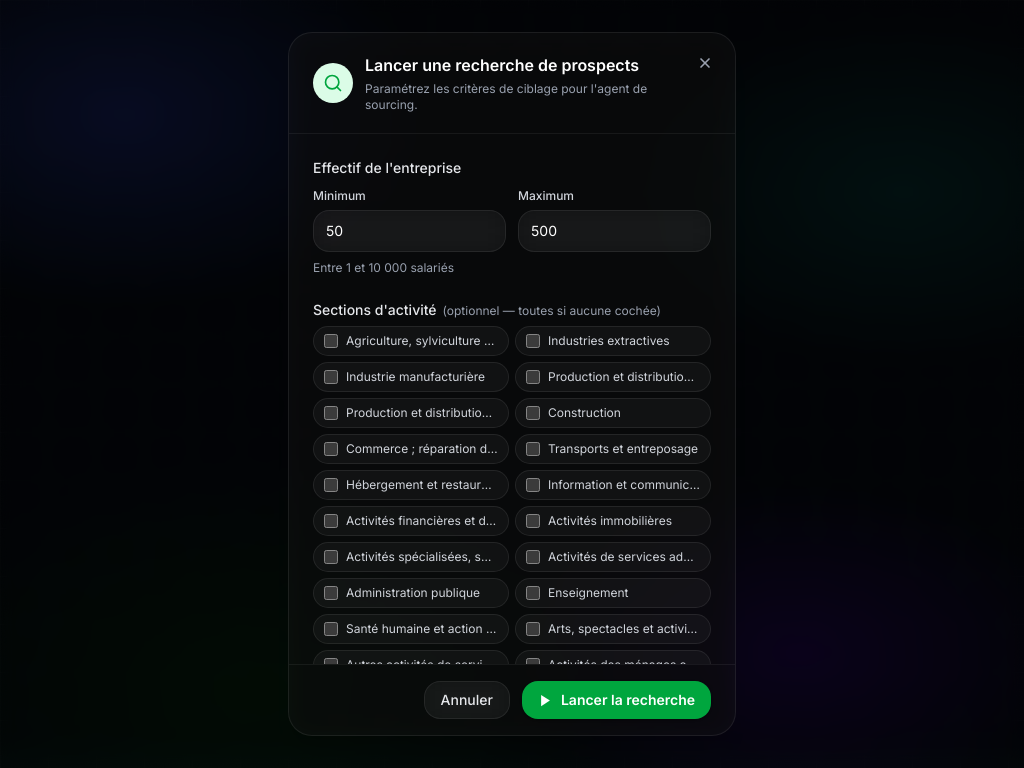
Scenario: SourcingModal — submit (targetSectors: [] systématique) › bloque le submit si effectifMin > effectifMax (régression effectif)
Replace the text in the number field labelled "Minimum" with "500" at (410, 231), box [313, 210, 506, 252]
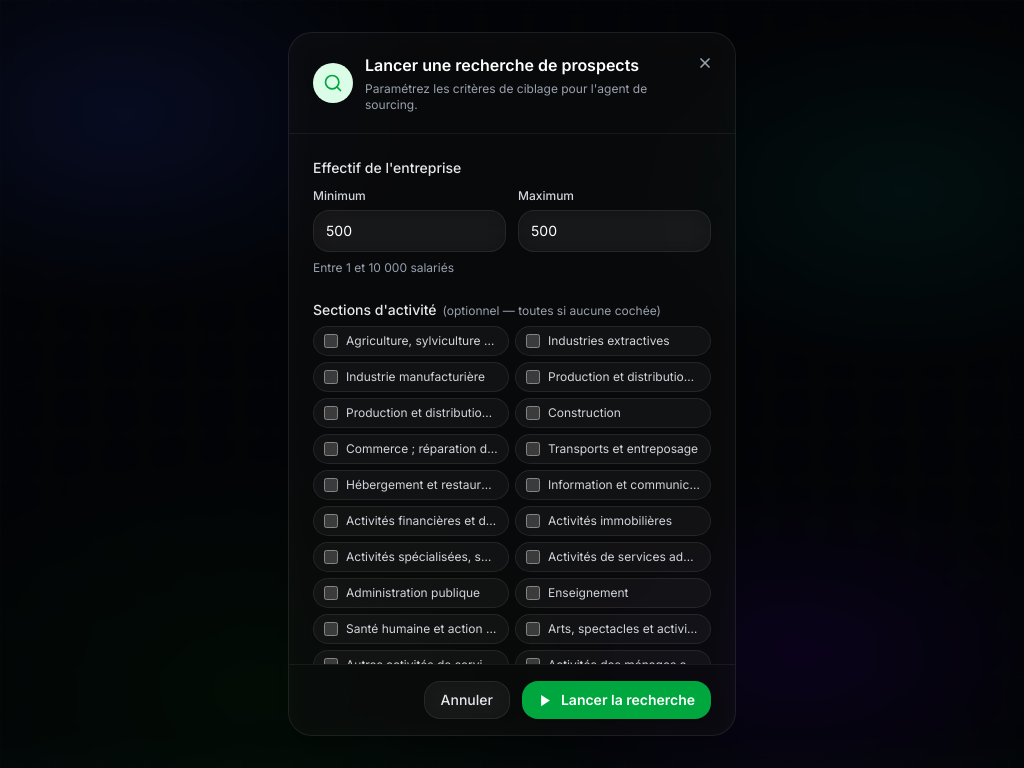
Replace the text in the number field labelled "Maximum" with "100" at (614, 231), box [518, 210, 711, 252]
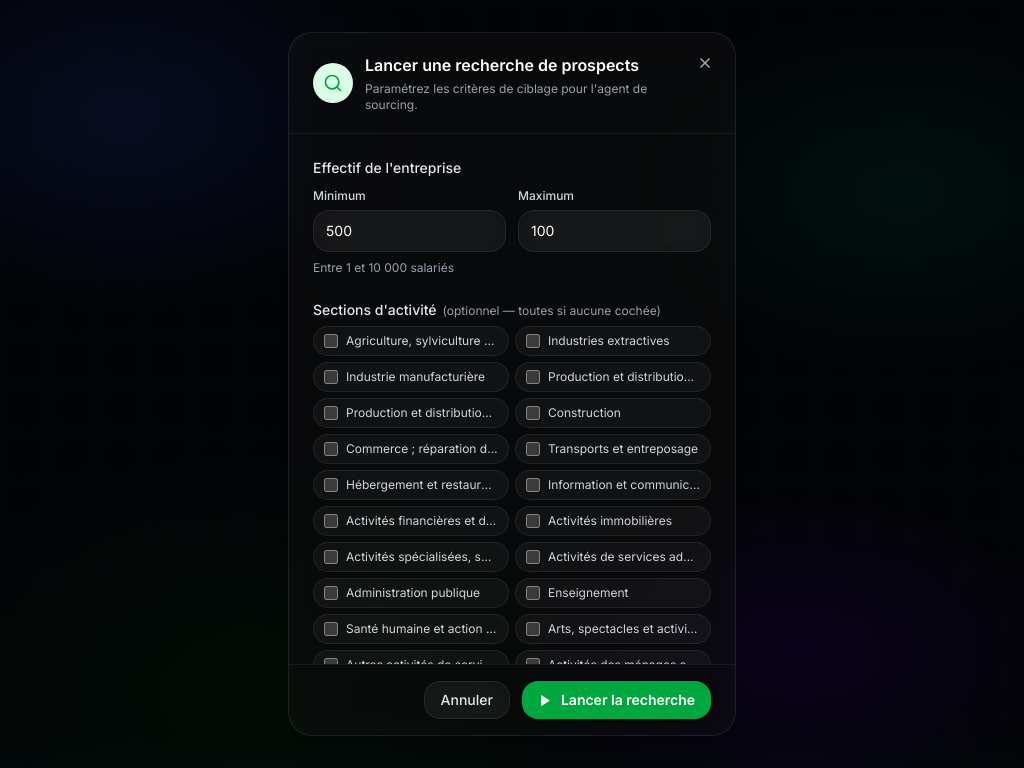
Click the button "Lancer la recherche" at (616, 700), box [522, 681, 711, 719]
(page scrolled)
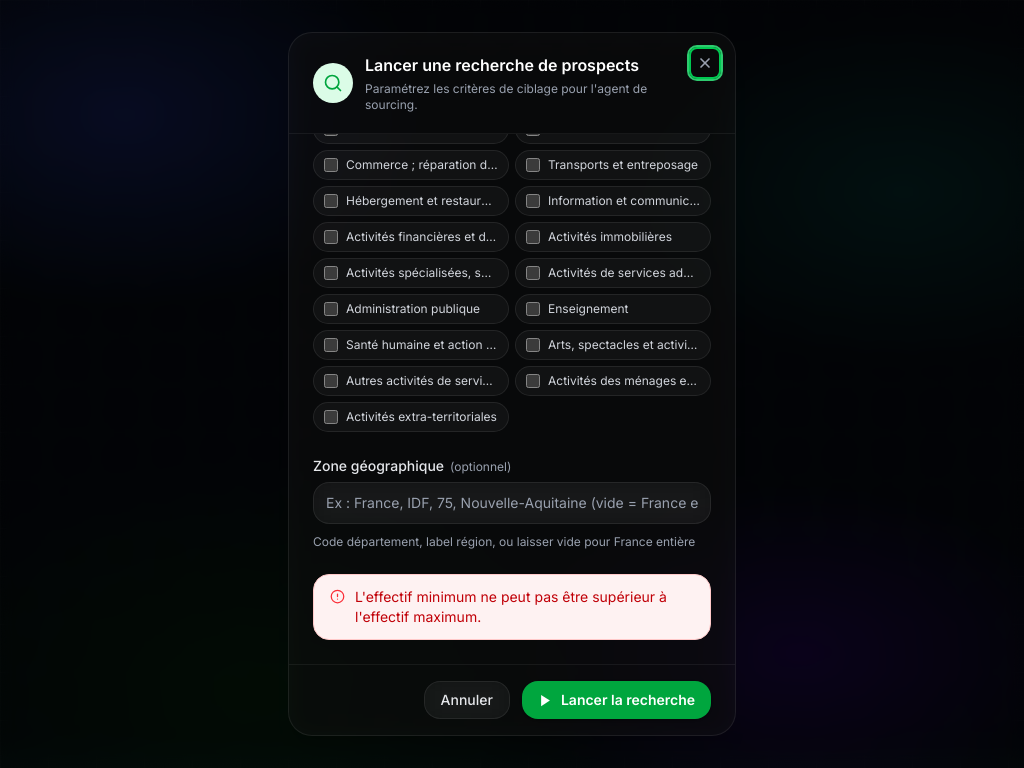
Result: the message "L'effectif minimum ne peut pas être supérieur à l'effectif maximum." is shown at [313, 574, 711, 640]
